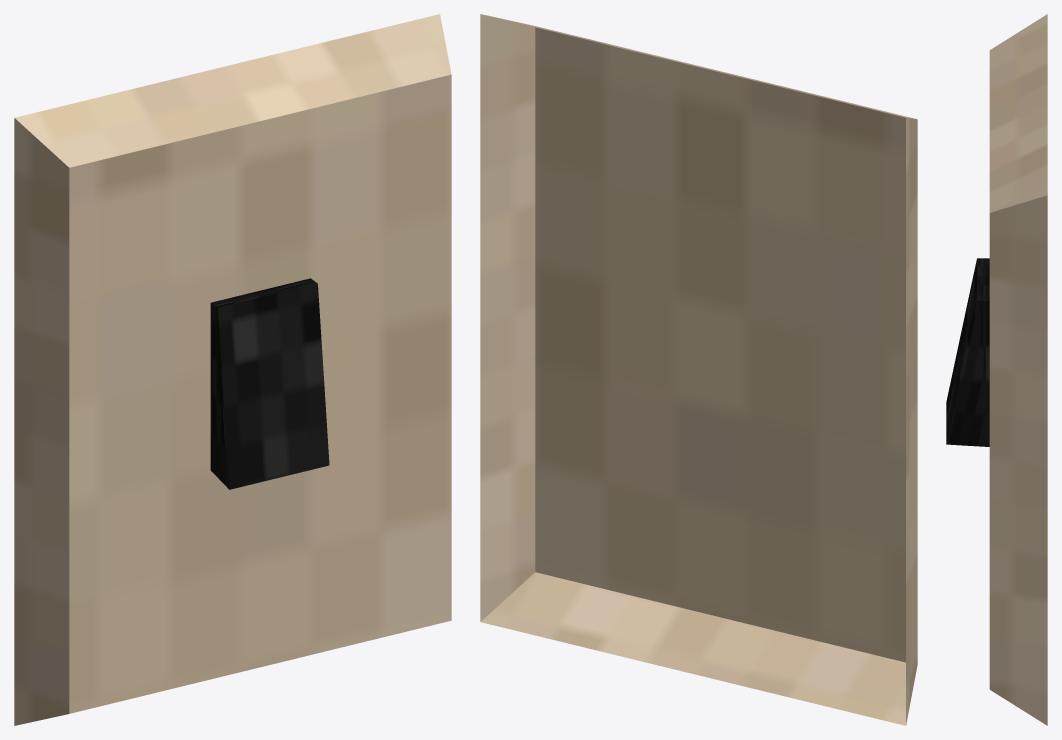
File: Switch off.fbx
The picture shows the model from 3 angles, left to right: view 1: azimuth 30°, elevation 25°; view 2: azimuth 150°, elevation 25°; view 3: azimuth 270°, elevation 25°; orthographic projection. The views are drawn at different scales.
Visible parts, largest first — view 1: Switch off; view 2: Switch off; view 3: Switch off.
Boxes of the visible parts, <box> form: Switch off: <box>14,14,451,725</box>; Switch off: <box>480,14,917,725</box>; Switch off: <box>946,14,1047,725</box>.
Bounding box in the file's own units: 15.22 × 20.78 × 3.59.
2 materials, 2 textured.
